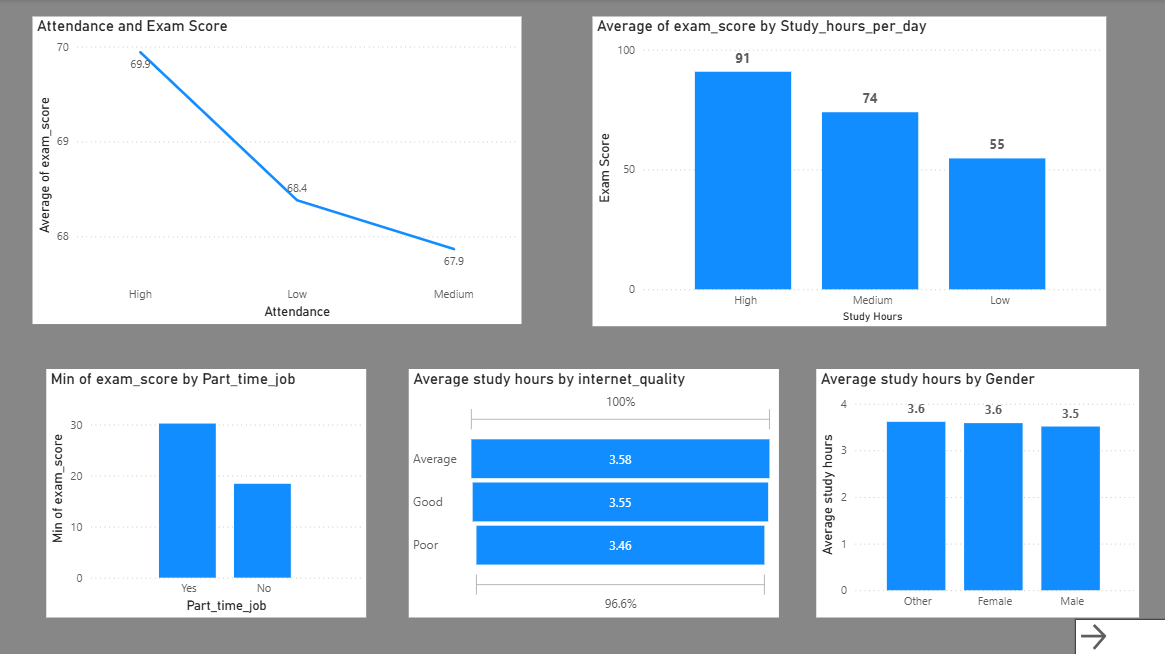

What the dashboard file says about the page in this screenshot:
{"tool":"powerbi","page":{"name":"Page 2","canvas":[1280,720],"ordinal":1},"visuals":[{"type":"lineChart","title":"Attendance and Exam Score","fields":{"Category":["student_habits_performance (2).Attendance_percentage (groups) 3"],"Y":["Avg(student_habits_performance (2).exam_score)"]},"box":[35.7,19.2,536.5,337.6],"z":0},{"type":"funnel","fields":{"Category":["student_habits_performance (2).internet_quality"],"Y":["student_habits_performance (2).Average study hours"]},"box":[448.7,406.2,406.2,273.1],"z":1000},{"type":"clusteredColumnChart","fields":{"Category":["student_habits_performance (2).Part_time_job"],"Y":["Min(student_habits_performance (2).exam_score)"]},"box":[50.8,406.2,351.3,273.1],"z":2000},{"type":"clusteredColumnChart","fields":{"Category":["student_habits_performance (2).Gender"],"Y":["student_habits_performance (2).Average study hours"]},"box":[896.1,406.2,354,273.1],"z":3000},{"type":"clusteredColumnChart","title":"Average of exam_score by Study_hours_per_day","fields":{"Category":["student_habits_performance (2).Study_hours_per_day (groups)"],"Y":["Avg(student_habits_performance (2).exam_score)"]},"box":[650.4,19.2,564,340.3],"z":4000},{"type":"actionButton","box":[1180.1,680.6,100.2,39.8],"z":6000}]}

Visuals, with their boxes in screenshot pixels (x1, y1, x2, y2), scaled from the page's 1280x720 canvas onto the 1165x654 screenshot:
"Attendance and Exam Score" lineChart: 32, 17, 521, 324
funnel - student_habits_performance (2).internet_quality x student_habits_performance (2).Average study hours: 408, 369, 778, 617
clusteredColumnChart - student_habits_performance (2).Part_time_job x Min(student_habits_performance (2).exam_score): 46, 369, 366, 617
clusteredColumnChart - student_habits_performance (2).Gender x student_habits_performance (2).Average study hours: 816, 369, 1138, 617
"Average of exam_score by Study_hours_per_day" clusteredColumnChart: 592, 17, 1105, 327
actionButton: 1074, 618, 1164, 653
